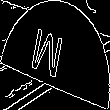M_S: (36, 24, 74, 86)
